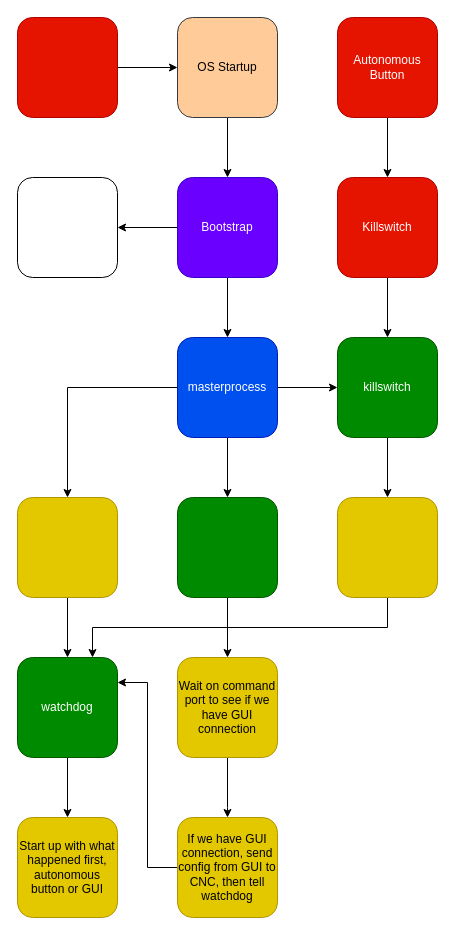
Image size: 455x935. Some labels were removed from this diagram. The box of each missing label's shape, as (x1, y1, x2, y2) in pixels:
Power On: (16, 16, 118, 118)
roscore: (16, 176, 118, 278)
Start CNC: (176, 496, 278, 598)
Start watchdog: (16, 496, 118, 598)
Wait on auto button to immediately start missions: (336, 496, 438, 598)
